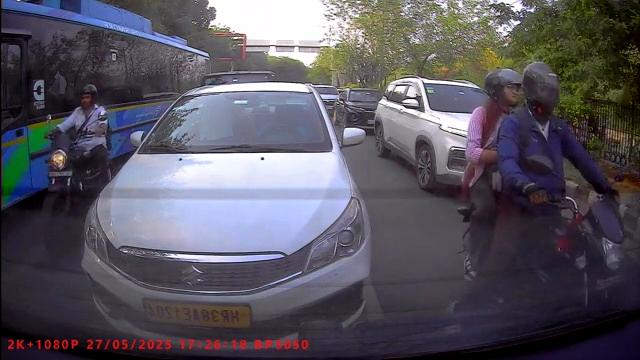motorcycle_with_helmet: (45, 81, 111, 186)
passenger_with_helmet: (460, 60, 627, 317)
